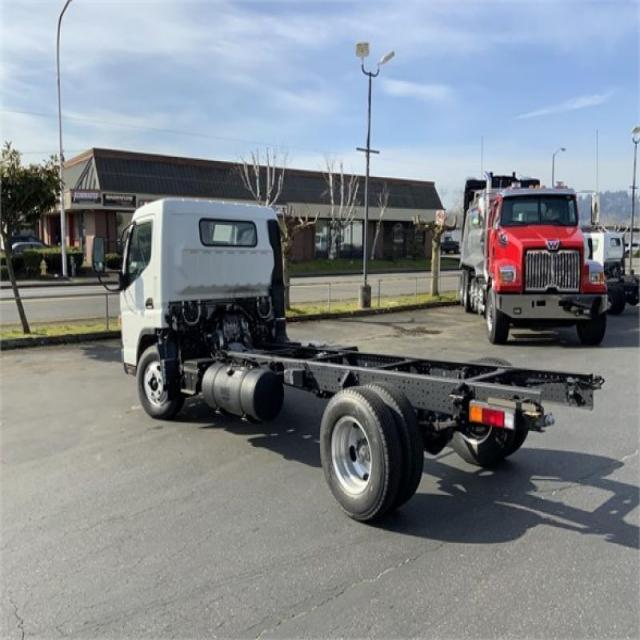truck: (117, 192, 604, 539), (456, 166, 611, 344)
